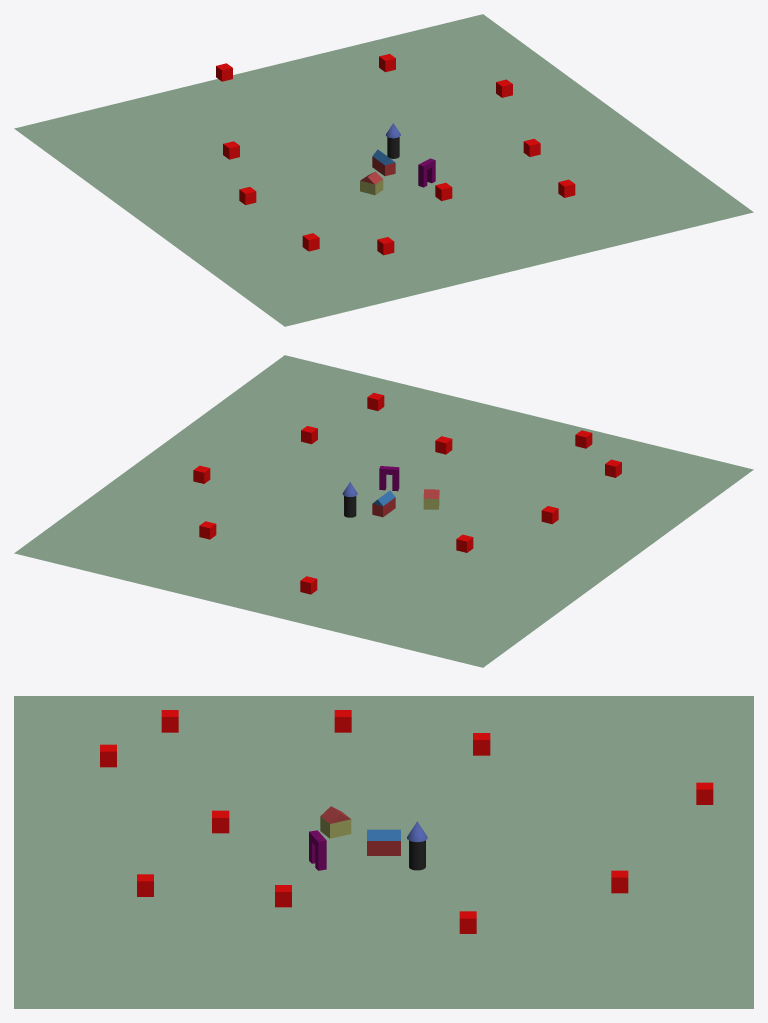
File: Szene.fbx
The picture shows the model from 3 angles, top to bottom: view 1: azimuth 30°, elevation 25°; view 2: azimuth 150°, elevation 25°; view 3: azimuth 270°, elevation 25°; orthographic projection. The views are drawn at different scales.
Visible parts, largest first — view 1: scene1:pPlane1; view 2: scene1:pPlane1; view 3: scene1:pPlane1.
Part boxes in pixels (left/top/right/bottom): scene1:pPlane1: left=14, top=14, right=753, bottom=326; scene1:pPlane1: left=14, top=355, right=753, bottom=667; scene1:pPlane1: left=14, top=696, right=753, bottom=1008.
Bounding box in the file's own units: 43.44 × 3.02 × 43.44.
